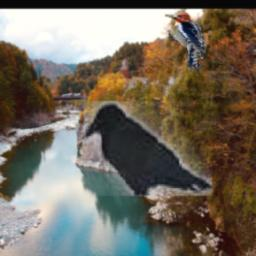Crow: (84, 101, 212, 196)
Woodpecker: (164, 13, 207, 73)
